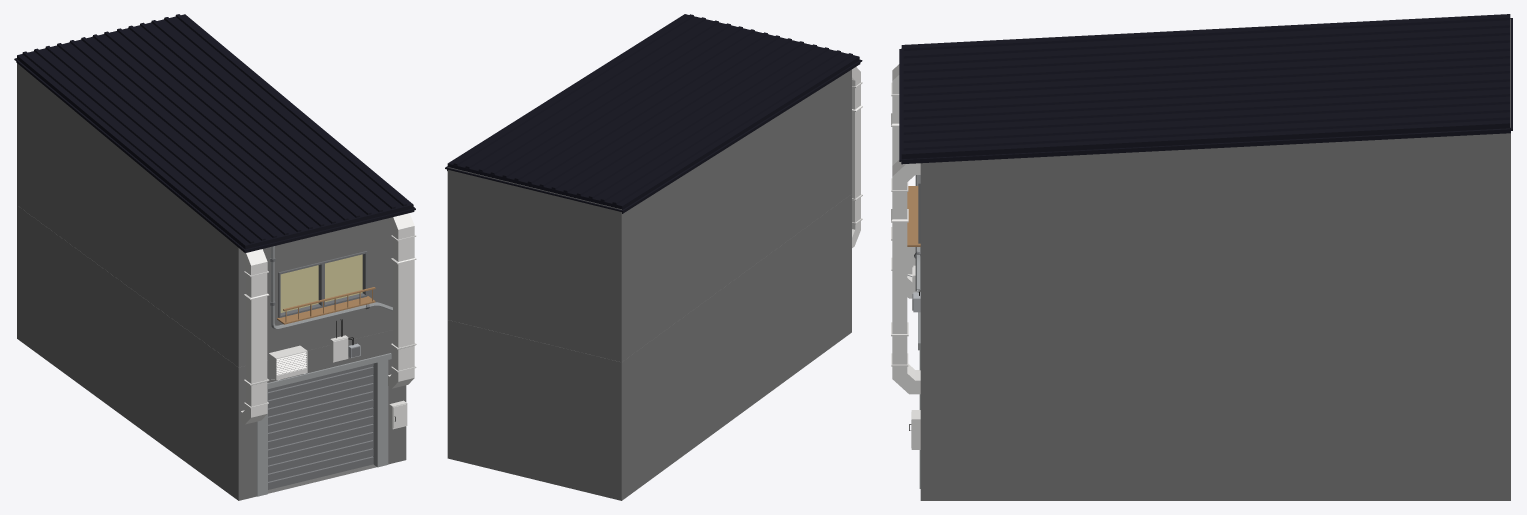
The model's file is SM_building_alley_japan_05.fbx.
3 views of the same model, side by side, from view 1: azimuth 30°, elevation 25°; view 2: azimuth 150°, elevation 25°; view 3: azimuth 270°, elevation 25° (orthographic). The views are drawn at different scales.
Parts seen in each view (by area): view 1: Object017; view 2: Object017; view 3: Object017.
Part boxes in pixels (box(x1,y1,x2,y2)): Object017: box(14, 14, 416, 500); Object017: box(445, 14, 862, 500); Object017: box(891, 14, 1512, 500).
Bounding box in the file's own units: 192 × 452 × 305.
